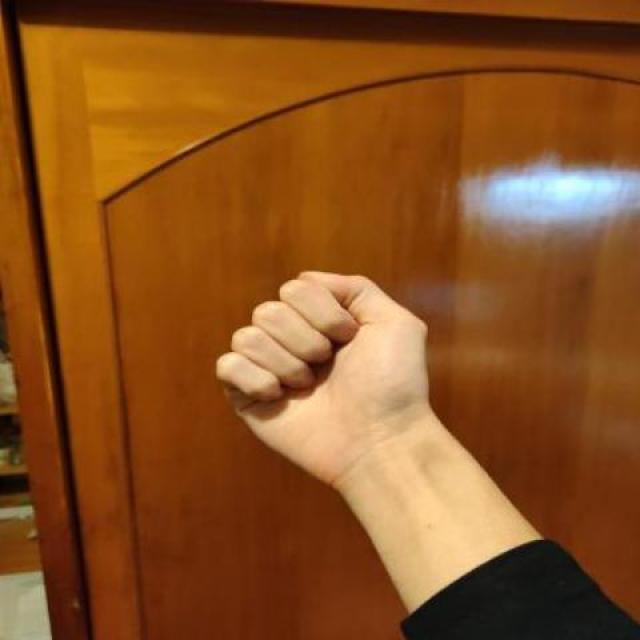Closed Hand: (190, 236, 441, 483)
